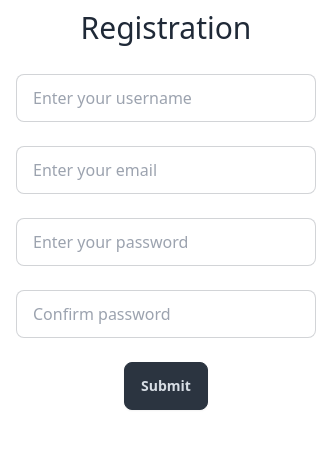
Test case: Registration Form test suite › checks if username is empty
Clear the field with id "username": (166, 98) left=16, top=74, right=316, bottom=122
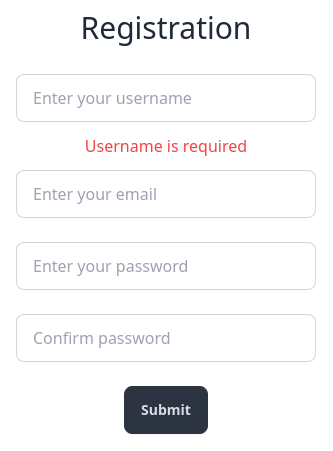
Expected: the text with id "username-validation-error" reads "Username is required", left=85, top=135, right=247, bottom=157
